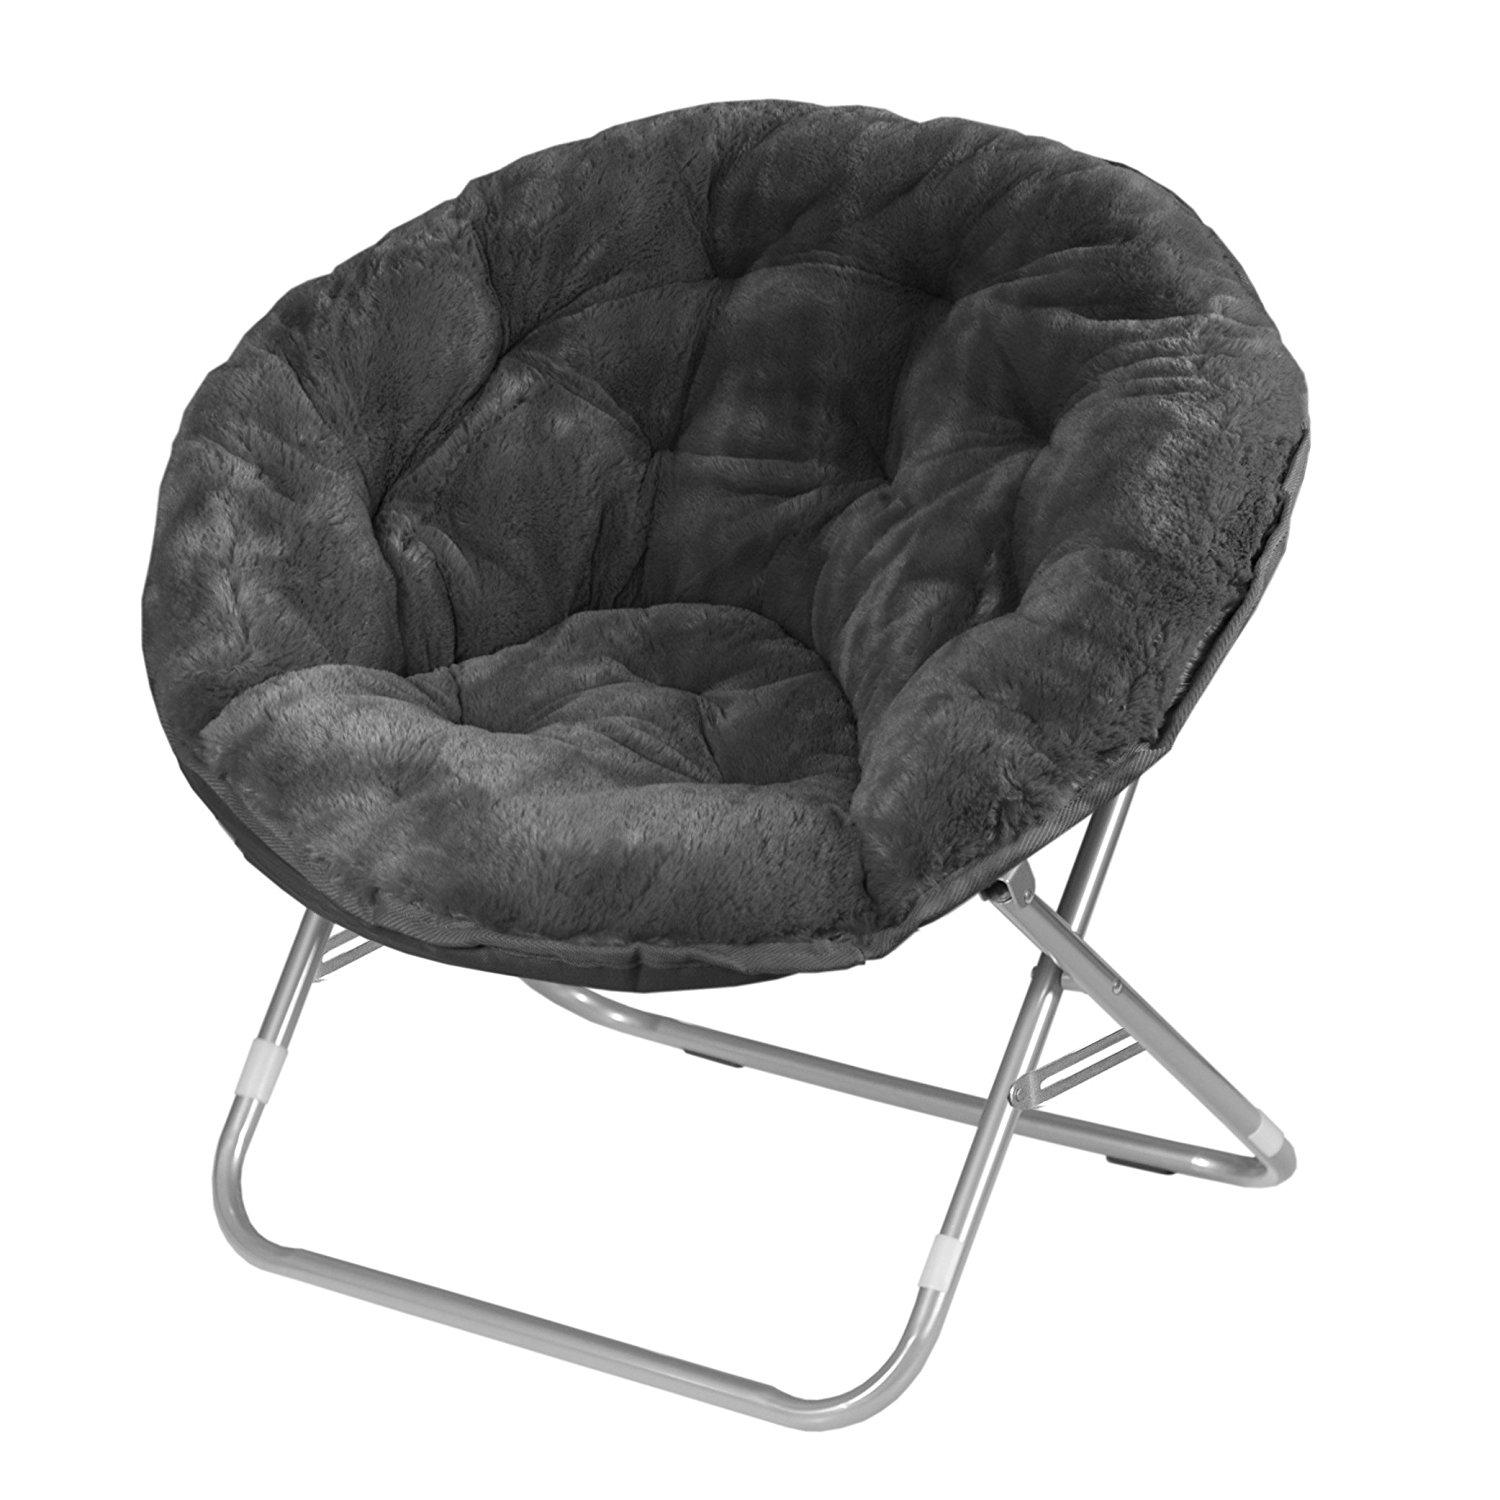chair: (120, 60, 1341, 1420)
